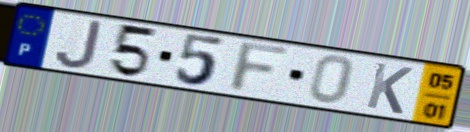0: (304, 54, 357, 107)
5: (174, 33, 229, 89), (108, 21, 159, 80)
F: (225, 40, 296, 96)
J: (53, 18, 105, 71)
K: (363, 60, 415, 117)
